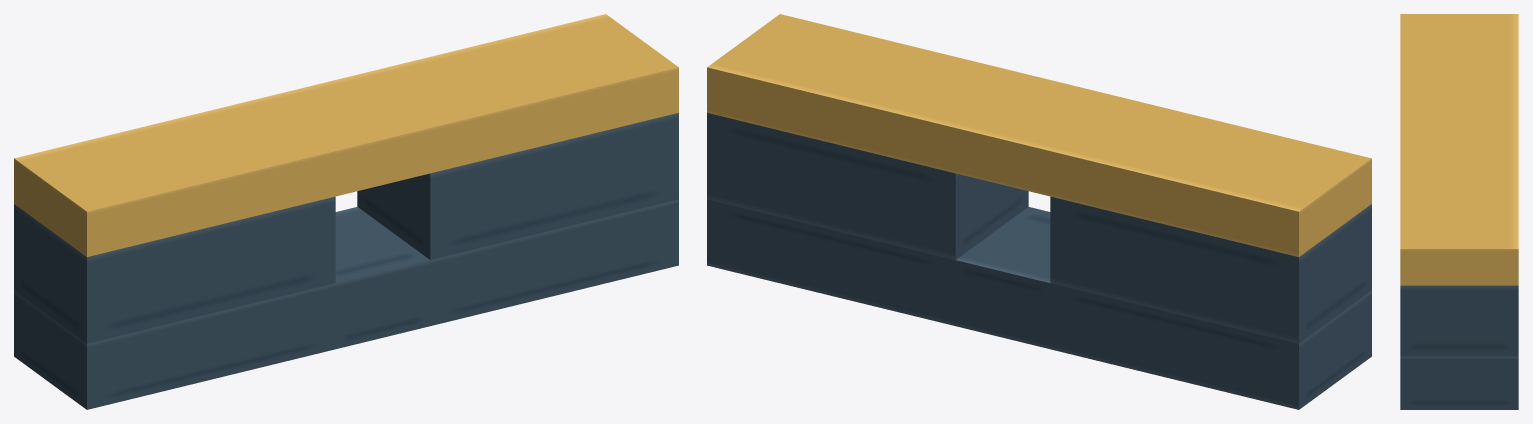
File: sc_pusher.obj
3 views of the same model, side by side, from view 1: azimuth 30°, elevation 25°; view 2: azimuth 150°, elevation 25°; view 3: azimuth 270°, elevation 25° (orthographic). The views are drawn at different scales.
Bounding box in the file's own units: 15 × 4.8 × 3.2.
1 material, 1 textured.
